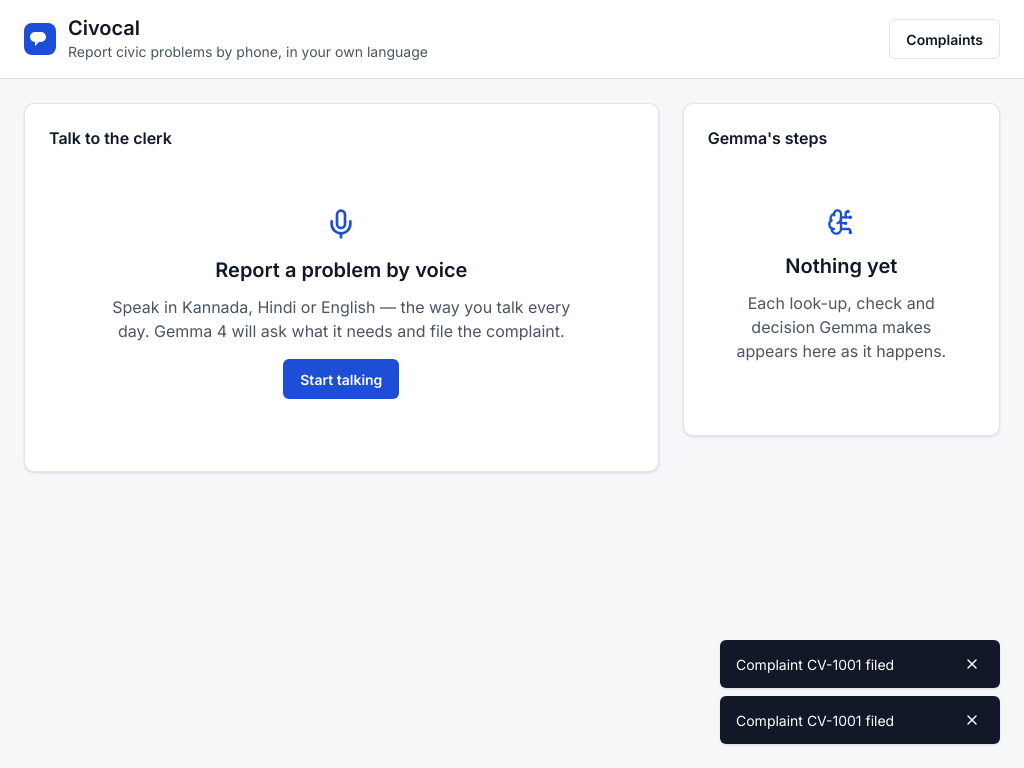
Test: too many messages gives a plain-language message
Click the button "Start talking".
click(341, 379)  # box [283,359,399,399]
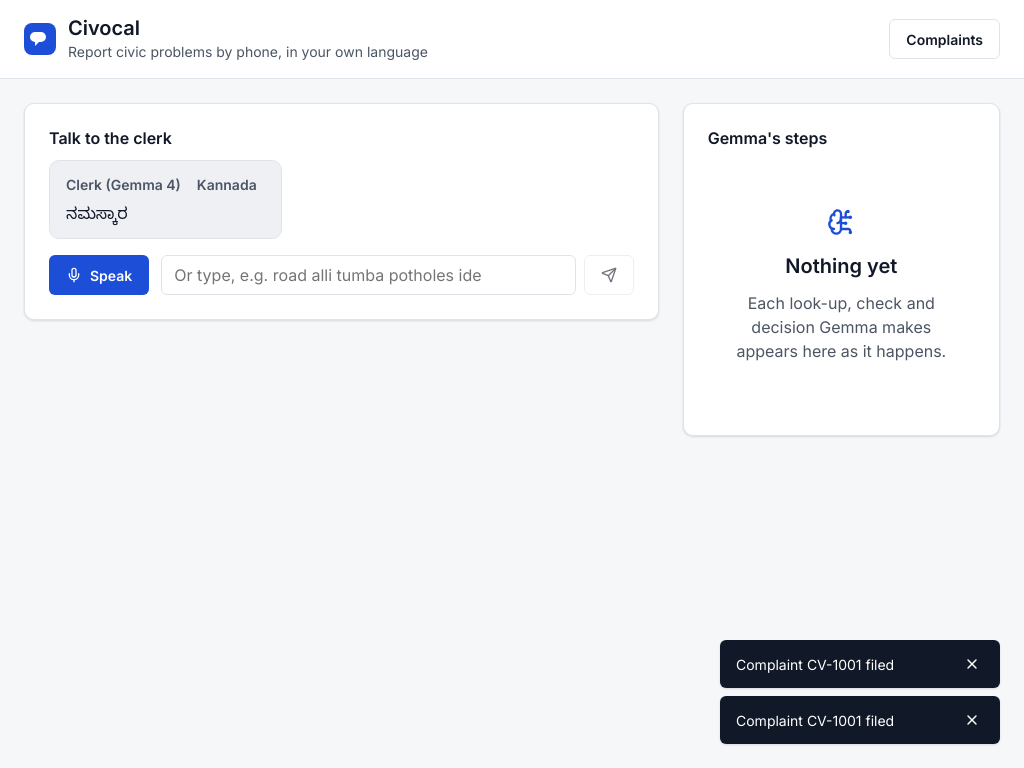
Type "hello" into the field named "Or type your message".
click(368, 275); type("hello")  # box [161,255,576,295]
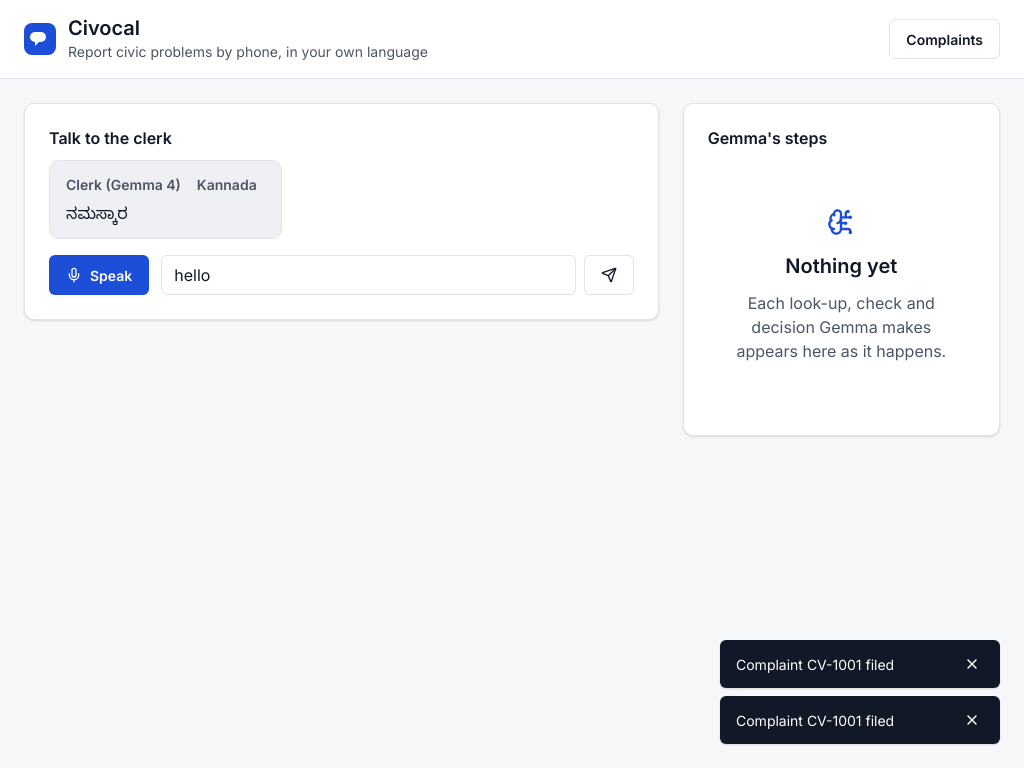
Click the button named "Send message".
click(609, 275)  # box [584,255,634,295]
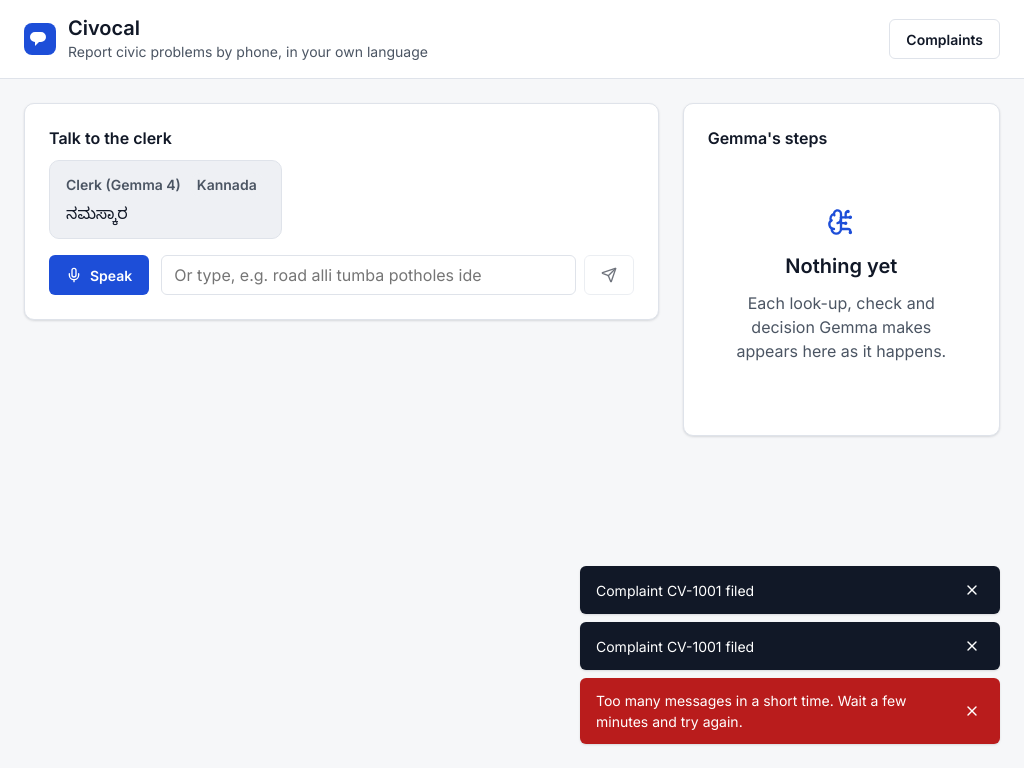
Result: the message "Too many messages in a short time. Wait a few minutes and try again." is shown at [580,678,1000,744]
